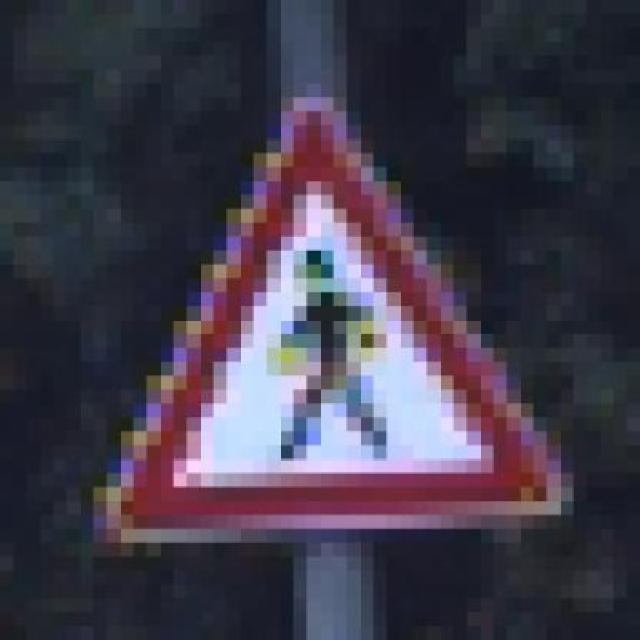Pedestrian Crossing: (80, 83, 574, 557)
